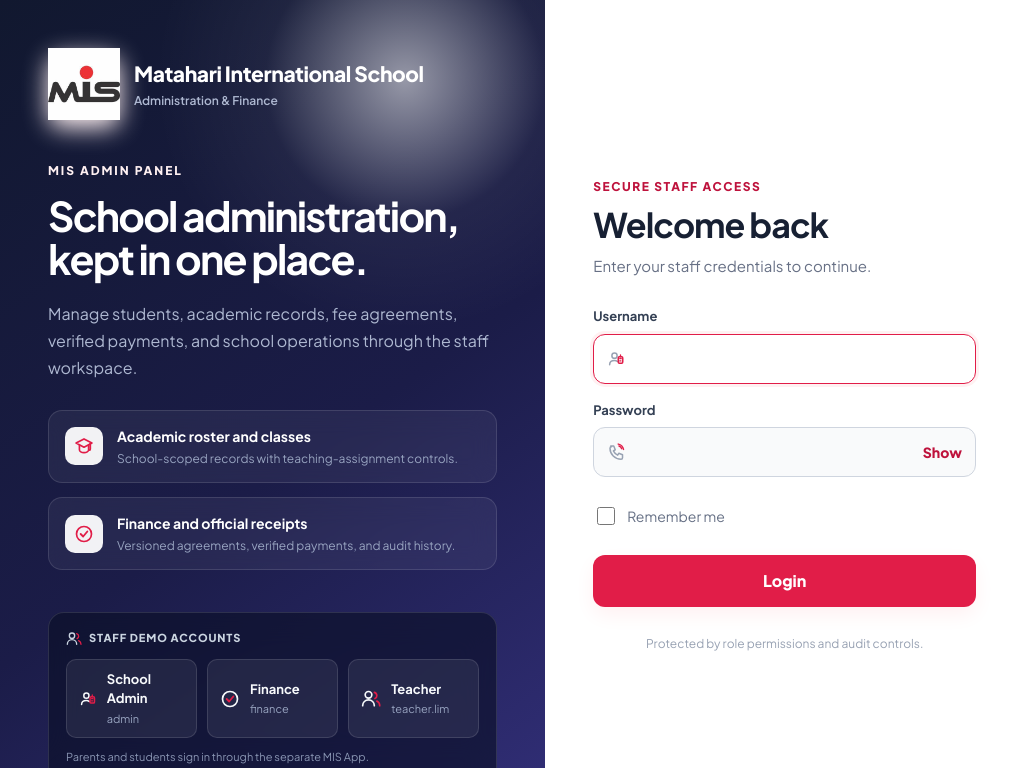
demo shell › shows an invalid-credentials message only once
In the field labelled "Username": x=785, y=359 593,334 -> 976,384, type "admin"
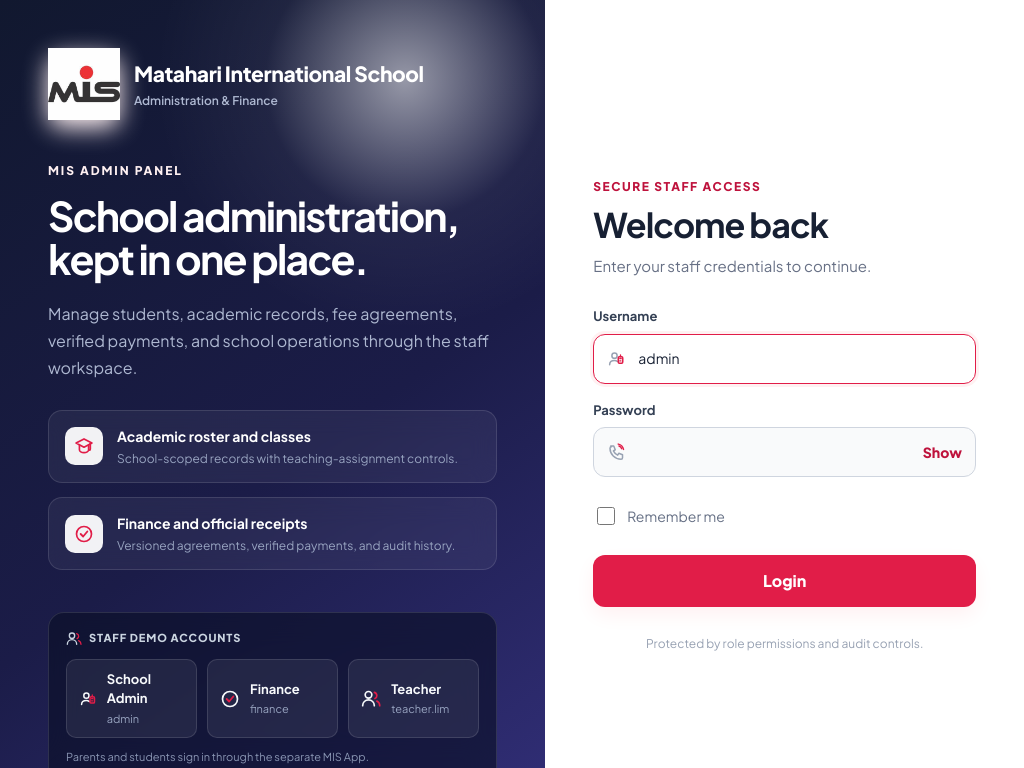
In the password field labelled "Password": x=785, y=452 593,427 -> 976,477, type "wrong-password"
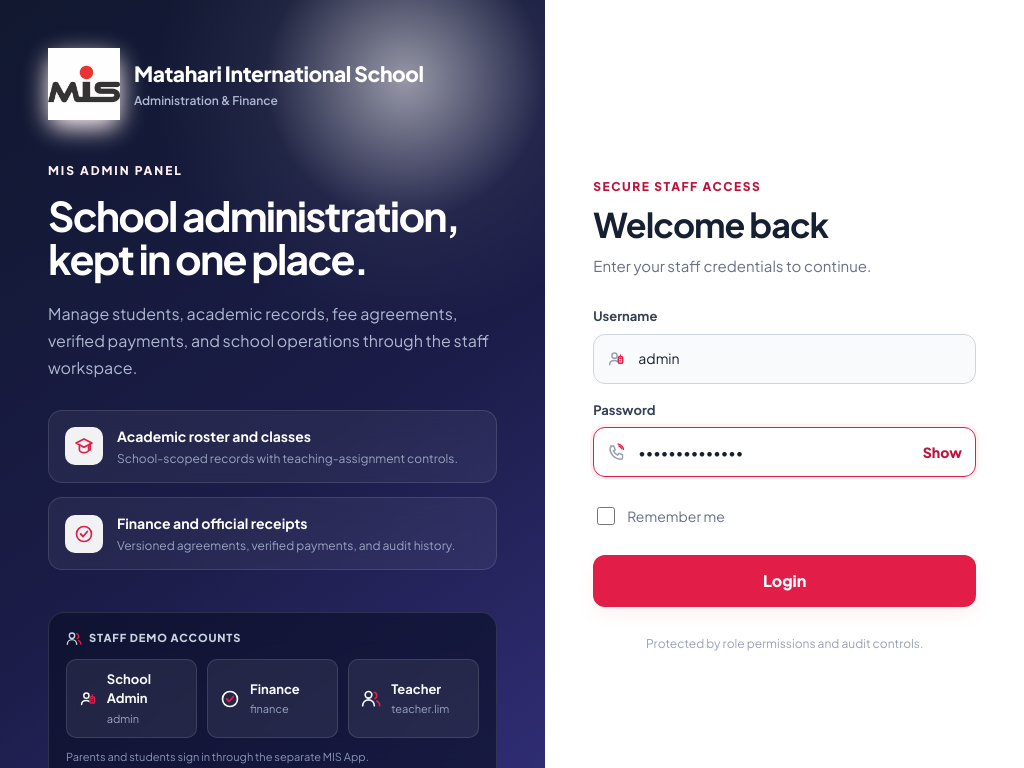
Click the button "Login": x=785, y=581 593,555 -> 976,607
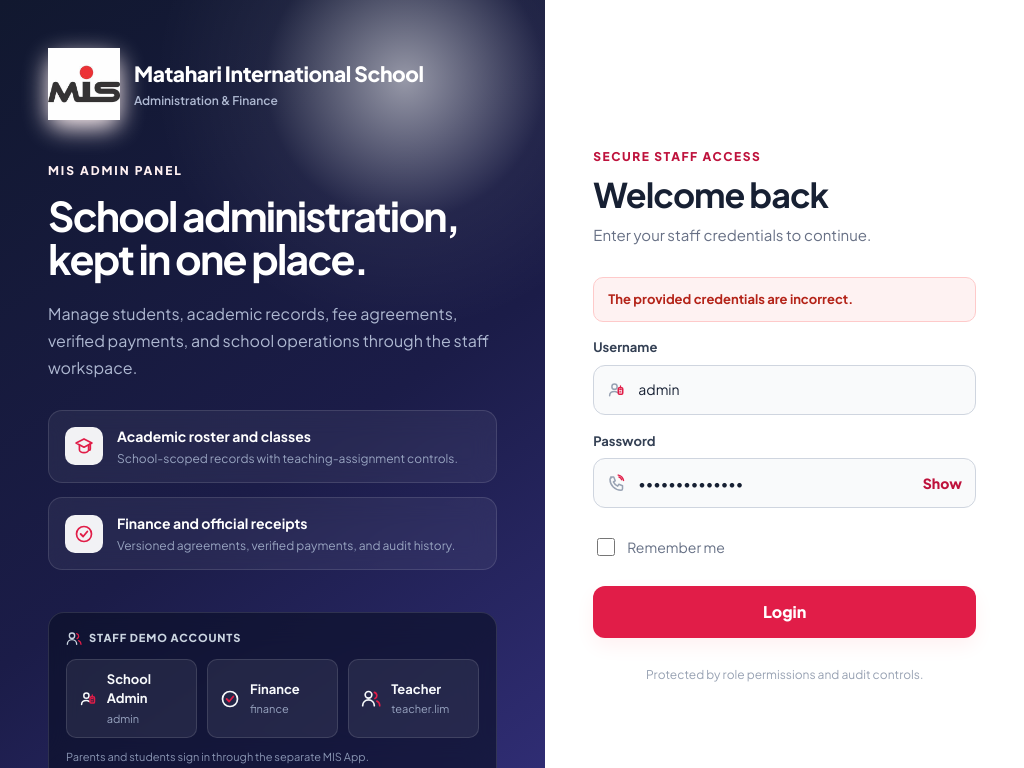
Now the text "The provided credentials are incorrect." is shown once, box 593,277 -> 976,322
